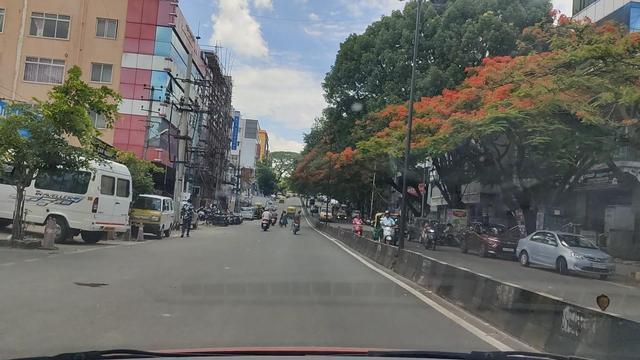RoadDamages: (69, 276, 131, 290)
